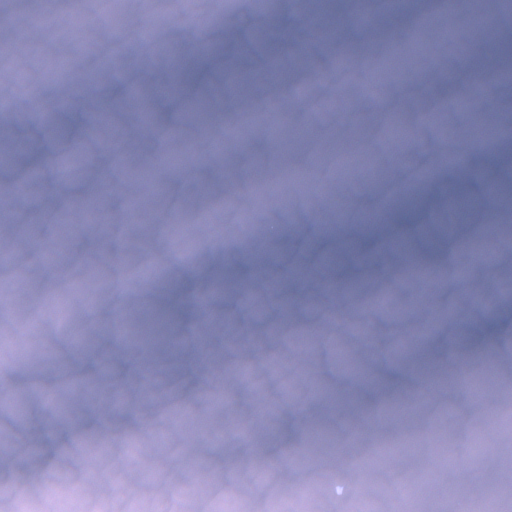Iceberg: (336, 487, 342, 494)
